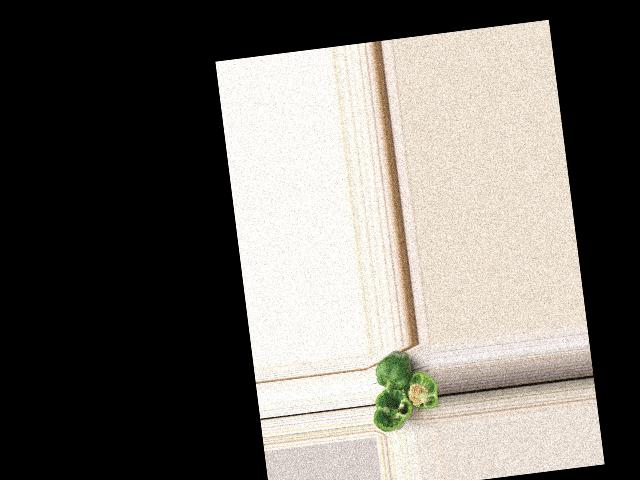bell_pepper: (402, 367, 440, 419)
